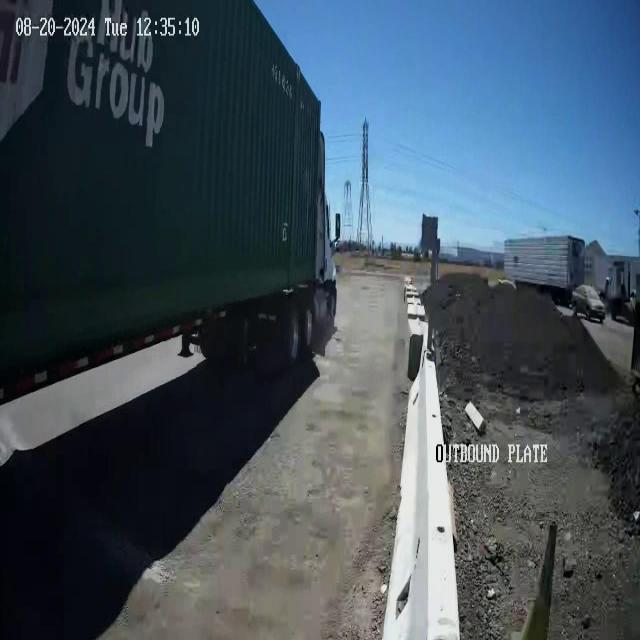TRUCK_CONTAINER: (1, 1, 338, 456)
